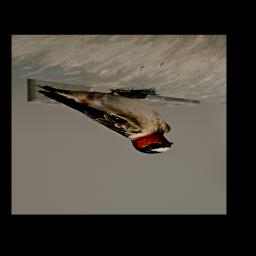Swallow: (34, 85, 175, 155)
